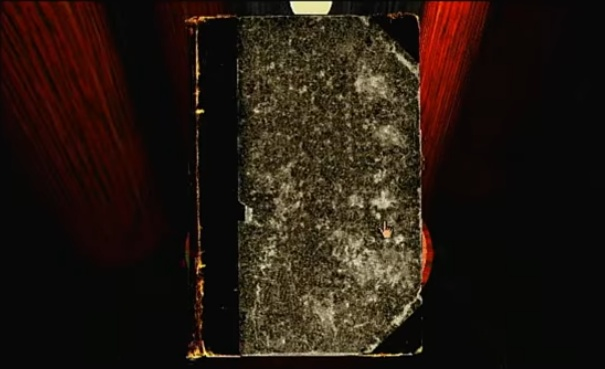Pointer: (375, 220, 396, 239)
